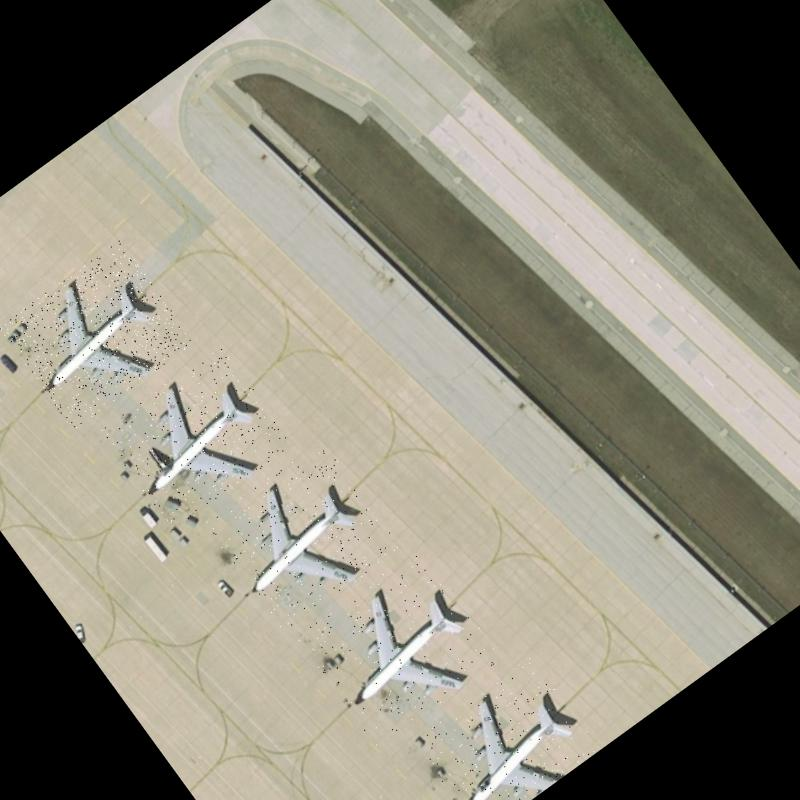A11: (296, 545, 503, 748), (204, 438, 401, 632), (0, 238, 194, 430), (98, 342, 294, 532), (411, 653, 601, 800)
